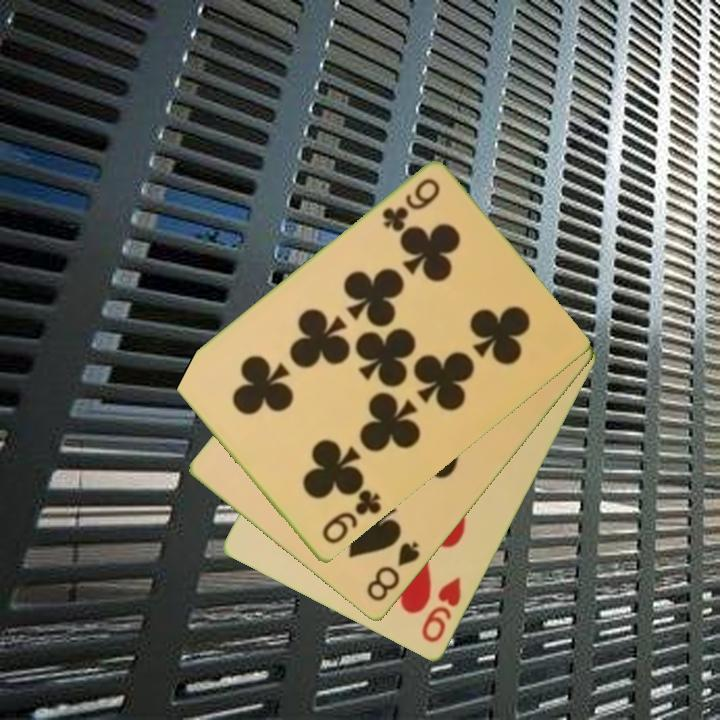8s: (363, 539, 423, 605)
9c: (318, 486, 385, 548), (378, 175, 444, 236)
9h: (418, 573, 465, 646)
